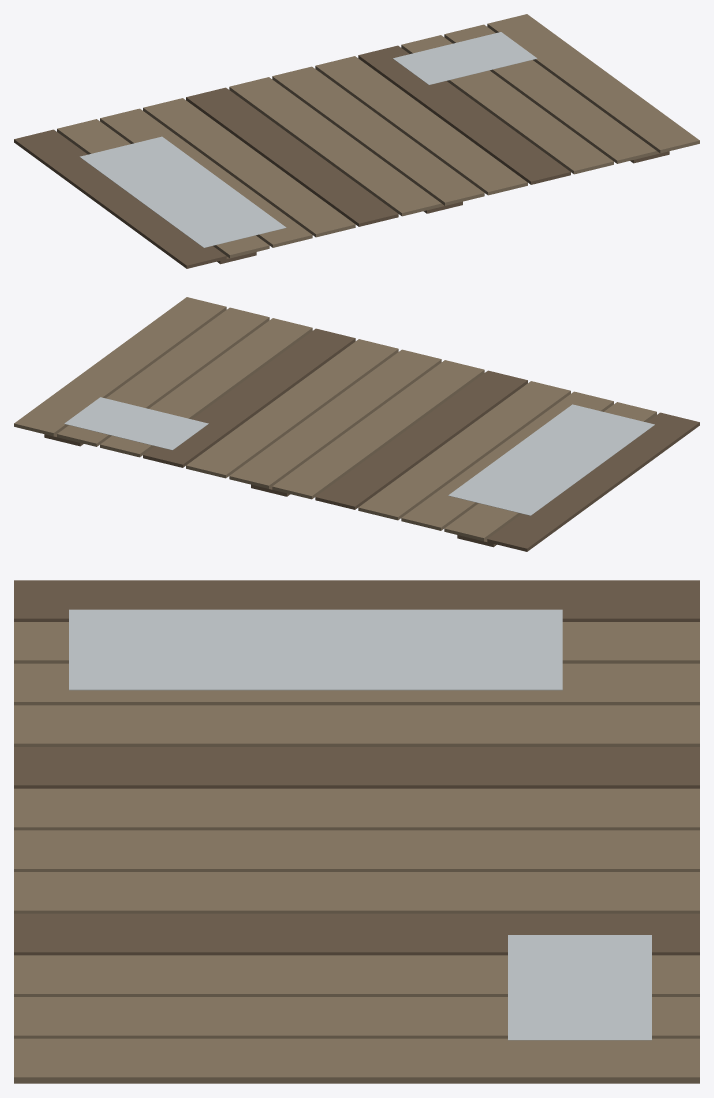
The model's file is fishing_platform.glb.
The picture shows the model from 3 angles, top to bottom: view 1: azimuth 30°, elevation 25°; view 2: azimuth 150°, elevation 25°; view 3: azimuth 270°, elevation 25°; orthographic projection. The views are drawn at different scales.
Parts seen in each view (by area): view 1: fishing_platform; view 2: fishing_platform; view 3: fishing_platform.
Boxes of the visible parts, x1,y1,x2,y2 form: fishing_platform: (14,14,699,268); fishing_platform: (14,297,699,551); fishing_platform: (14,580,699,1083).
Bounding box in the file's own units: 23.04 × 0.3 × 13.44.
